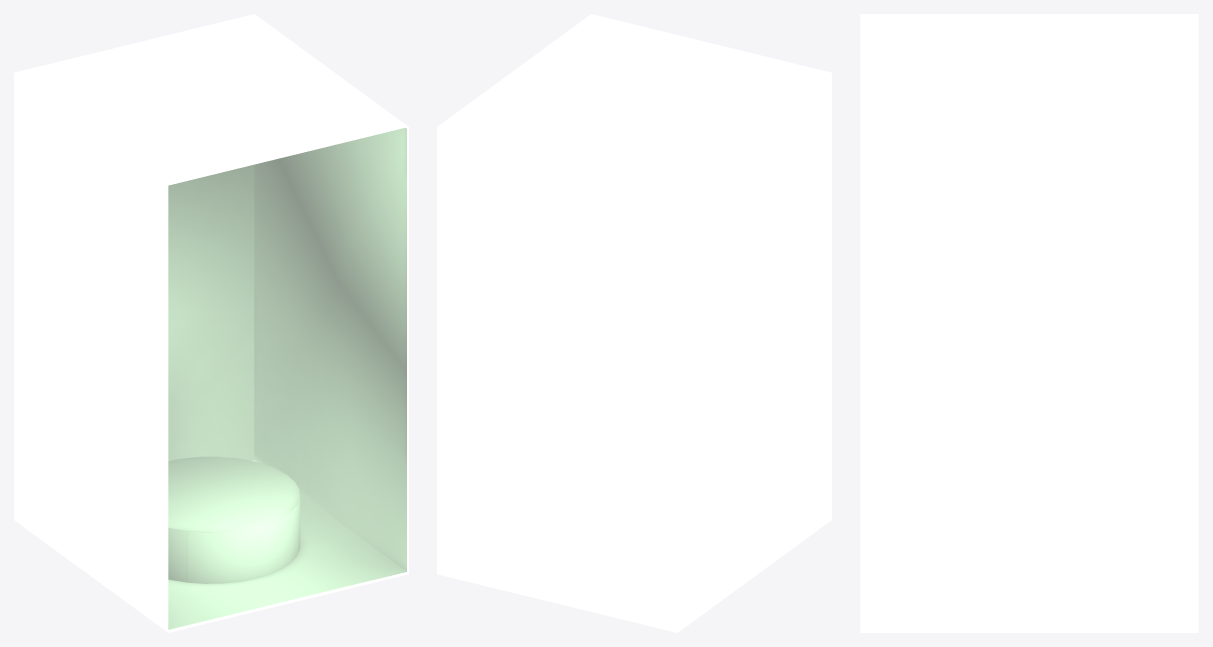
File: inverseBox.gltf
The picture shows the model from 3 angles, left to right: view 1: azimuth 30°, elevation 25°; view 2: azimuth 150°, elevation 25°; view 3: azimuth 270°, elevation 25°; orthographic projection. The views are drawn at different scales.
Visible parts, largest first — view 1: Cube; view 2: Cube; view 3: Cube.
Boxes of the visible parts, left/top/right/bottom form: Cube: left=14, top=14, right=408, bottom=632; Cube: left=437, top=14, right=831, bottom=632; Cube: left=860, top=14, right=1198, bottom=632.
Bounding box in the file's own units: 1.82 × 3.23 × 2.02.
Materials: 2 (1 with a texture image).
